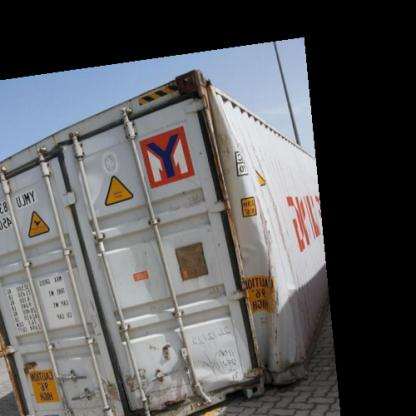Damage: (199, 85, 292, 381), (124, 341, 190, 412), (15, 354, 47, 378)
